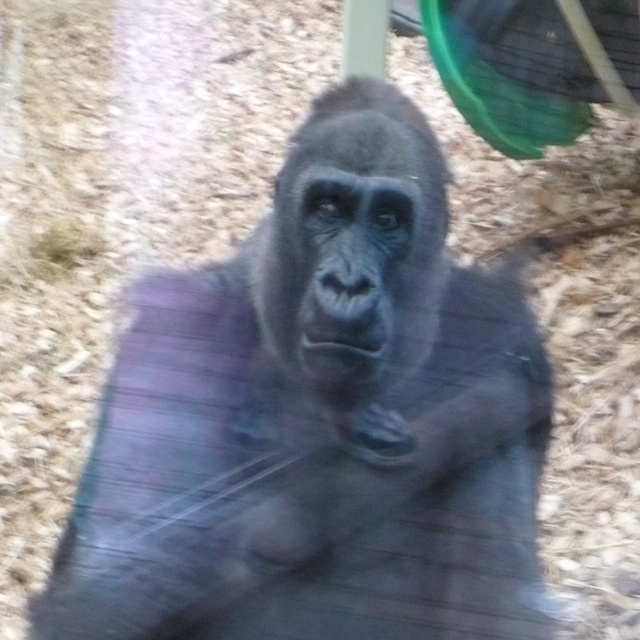Monkey: (58, 66, 576, 630)
